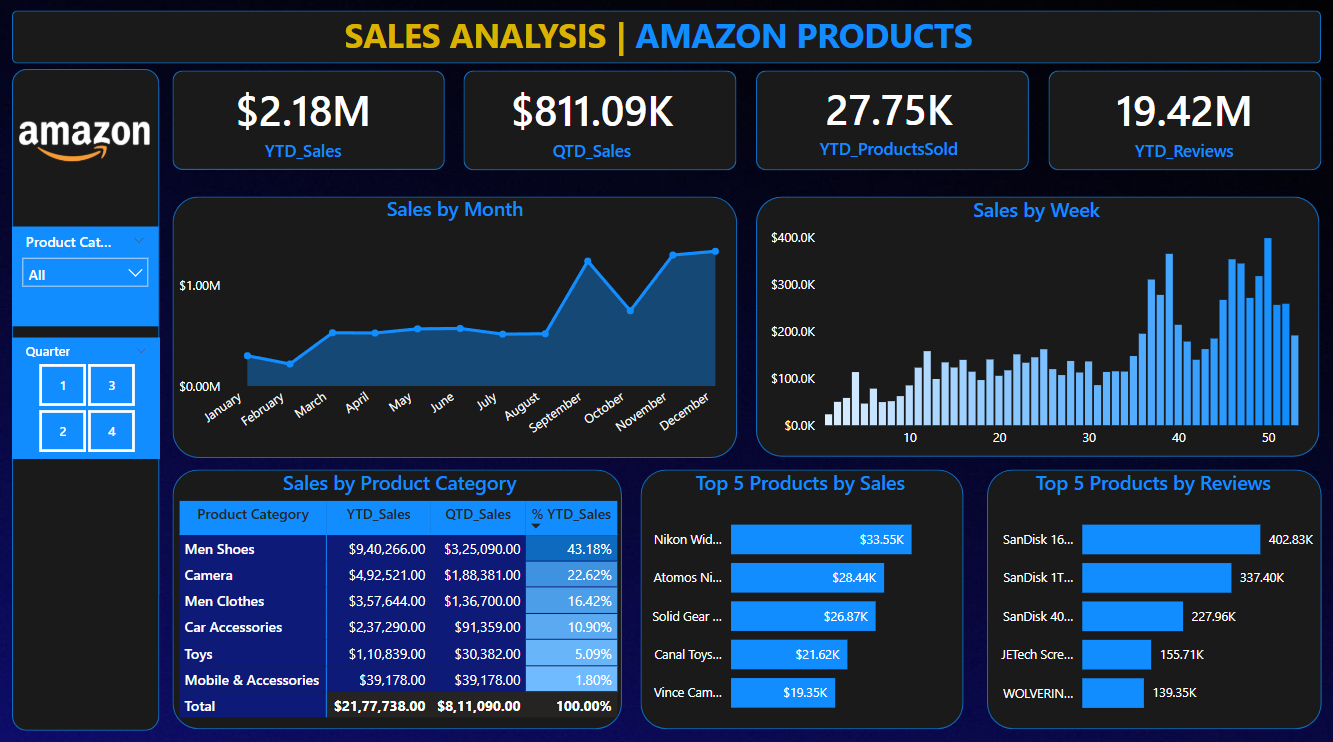

The page's visual inventory and layout, read from the dashboard file:
{"tool":"powerbi","page":{"name":"Page 1","canvas":[1280,720],"ordinal":0},"visuals":[{"type":"card","fields":{"Values":["Amazon_Data.YTD_Sales"]},"box":[168.6,70,246.5,95.4],"z":0,"group":"g1"},{"type":"shape","box":[14.3,12.7,1250.2,50.9],"z":0},{"type":"card","fields":{"Values":["Amazon_Data.QTD_Sales"]},"box":[438.5,70,259.3,95.4],"z":1000,"group":"g1"},{"type":"textbox","box":[326.1,8,625.1,60.4],"z":1000},{"type":"card","fields":{"Values":["Amazon_Data.YTD_ProductsSold"]},"box":[721.1,68.4,259.3,95.4],"z":2000,"group":"g1"},{"type":"shape","box":[13.6,68.2,141,632.2],"z":2000},{"type":"card","fields":{"Values":["Amazon_Data.YTD_Reviews"]},"box":[1003.7,70,259.3,95.4],"z":3000,"group":"g1"},{"type":"shape","box":[167,70,260,95],"z":3000},{"type":"shape","box":[445.4,70,260.9,95.4],"z":4000},{"type":"shape","box":[724.5,70,260.9,95.4],"z":5000},{"type":"shape","box":[1003.7,70,260.9,95.4],"z":6000},{"type":"group","id":"g1","title":"Group 1","box":[168.6,68.4,1094.3,97],"z":7000},{"type":"shape","box":[167,190.9,539.2,249.7],"z":8000},{"type":"areaChart","title":"Sales by Month","fields":{"Category":["DateTable.month_name"],"Y":["Sum(Amazon_Data.Price(Dollar))"]},"box":[168.3,189.5,539.7,250.1],"z":9000},{"type":"shape","box":[724.6,191,538.2,248.6],"z":10000},{"type":"columnChart","title":"Sales by Week","fields":{"Category":["DateTable.Week_no"],"Y":["Sum(Amazon_Data.Price(Dollar))"]},"box":[733.7,191,518.5,248.6],"z":11000},{"type":"shape","box":[167,451.7,429.5,248.1],"z":12000},{"type":"pivotTable","title":"Sales by Product Category","fields":{"Rows":["Amazon_Data.Product Category"],"Values":["Amazon_Data.YTD_Sales1","Amazon_Data.QTD_Sales","Amazon_Data.YTD_Sales"]},"box":[168.6,451.7,431.1,248.1],"z":13000},{"type":"shape","box":[614,451.7,308.6,248.1],"z":14000},{"type":"barChart","title":"Top 5 Products by Sales","fields":{"Y":["Amazon_Data.YTD_Sales"],"Category":["Amazon_Data.Product Description"]},"box":[609.2,451.7,316.5,248.1],"z":15000},{"type":"shape","box":[944.8,451.7,319.7,248.1],"z":16000},{"type":"barChart","title":"Top 5 Products by Reviews","fields":{"Category":["Amazon_Data.Product Description"],"Y":["Amazon_Data.YTD_Reviews"]},"box":[941.6,451.7,326.1,248.1],"z":17000},{"type":"slicer","fields":{"Values":["Amazon_Data.Product Category"]},"box":[14.3,219.5,140,95.4],"z":18000},{"type":"slicer","fields":{"Values":["DateTable.Quarter_No"]},"box":[14.3,324.5,141.6,116.1],"z":19000},{"type":"image","box":[15.9,70,135.2,135.2],"z":19001}]}

Visuals, with their boxes in screenshot pixels (x1, y1, x2, y2), scaled from the page's 1280x720 canvas onto the 1333x742 screenshot:
card - Amazon_Data.YTD_Sales: bbox(176, 72, 432, 170)
shape: bbox(15, 13, 1317, 66)
card - Amazon_Data.QTD_Sales: bbox(457, 72, 727, 170)
textbox: bbox(340, 8, 991, 70)
card - Amazon_Data.YTD_ProductsSold: bbox(751, 70, 1021, 169)
shape: bbox(14, 70, 161, 722)
card - Amazon_Data.YTD_Reviews: bbox(1045, 72, 1315, 170)
shape: bbox(174, 72, 445, 170)
shape: bbox(464, 72, 736, 170)
shape: bbox(754, 72, 1026, 170)
shape: bbox(1045, 72, 1317, 170)
"Group 1" group: bbox(176, 70, 1315, 170)
shape: bbox(174, 197, 735, 454)
"Sales by Month" areaChart: bbox(175, 195, 737, 453)
shape: bbox(755, 197, 1315, 453)
"Sales by Week" columnChart: bbox(764, 197, 1304, 453)
shape: bbox(174, 466, 621, 721)
"Sales by Product Category" pivotTable: bbox(176, 466, 625, 721)
shape: bbox(639, 466, 961, 721)
"Top 5 Products by Sales" barChart: bbox(634, 466, 964, 721)
shape: bbox(984, 466, 1317, 721)
"Top 5 Products by Reviews" barChart: bbox(981, 466, 1320, 721)
slicer - Amazon_Data.Product Category: bbox(15, 226, 161, 325)
slicer - DateTable.Quarter_No: bbox(15, 334, 162, 454)
image: bbox(17, 72, 157, 211)
